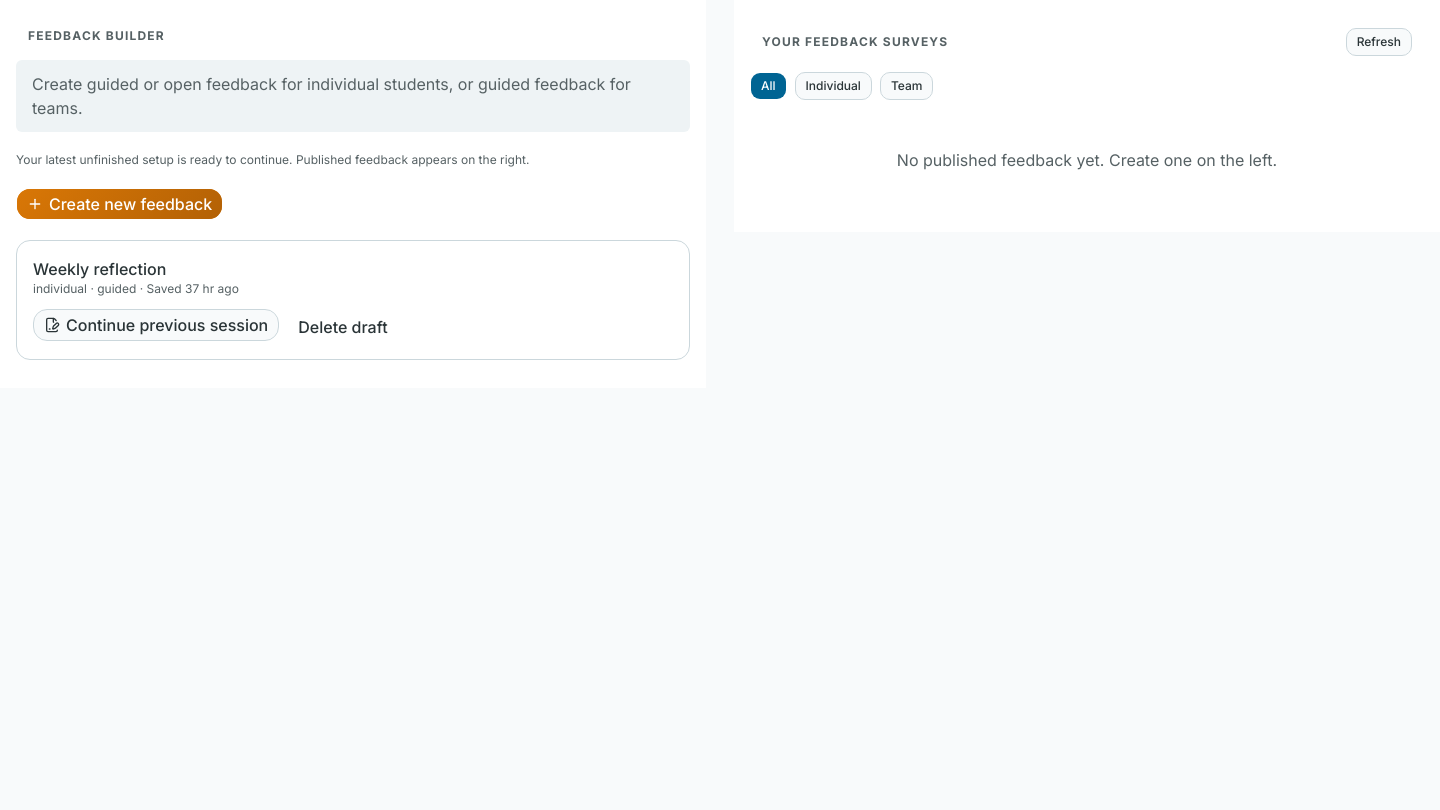
keeps a failed optimistic instruction and newer draft after save failure
Click the button "Continue previous session".
click(156, 325)  # box [33,309,279,341]
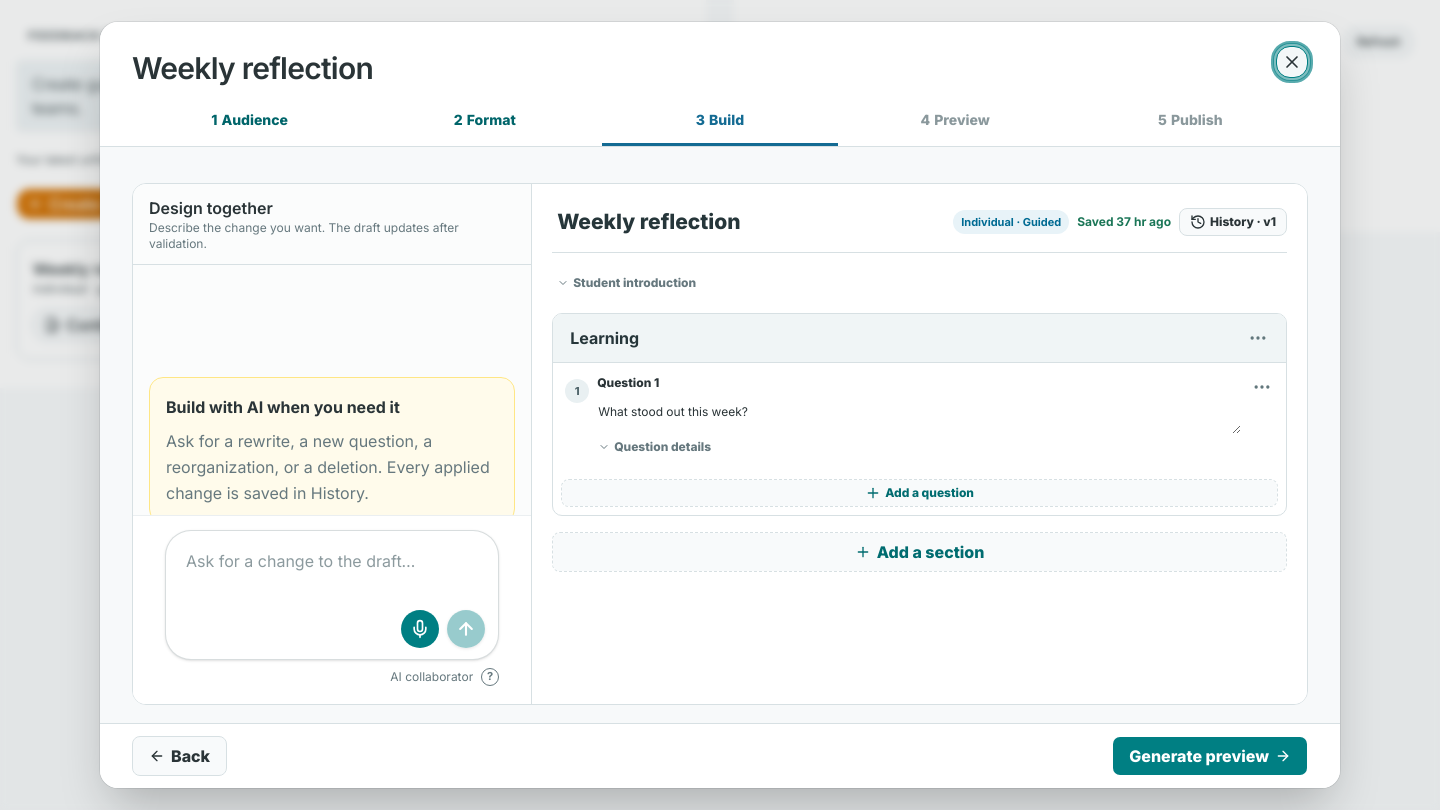
Type " revised" into the field named "Feedback title".
click(749, 222); type(" revised")  # box [552,204,945,240]
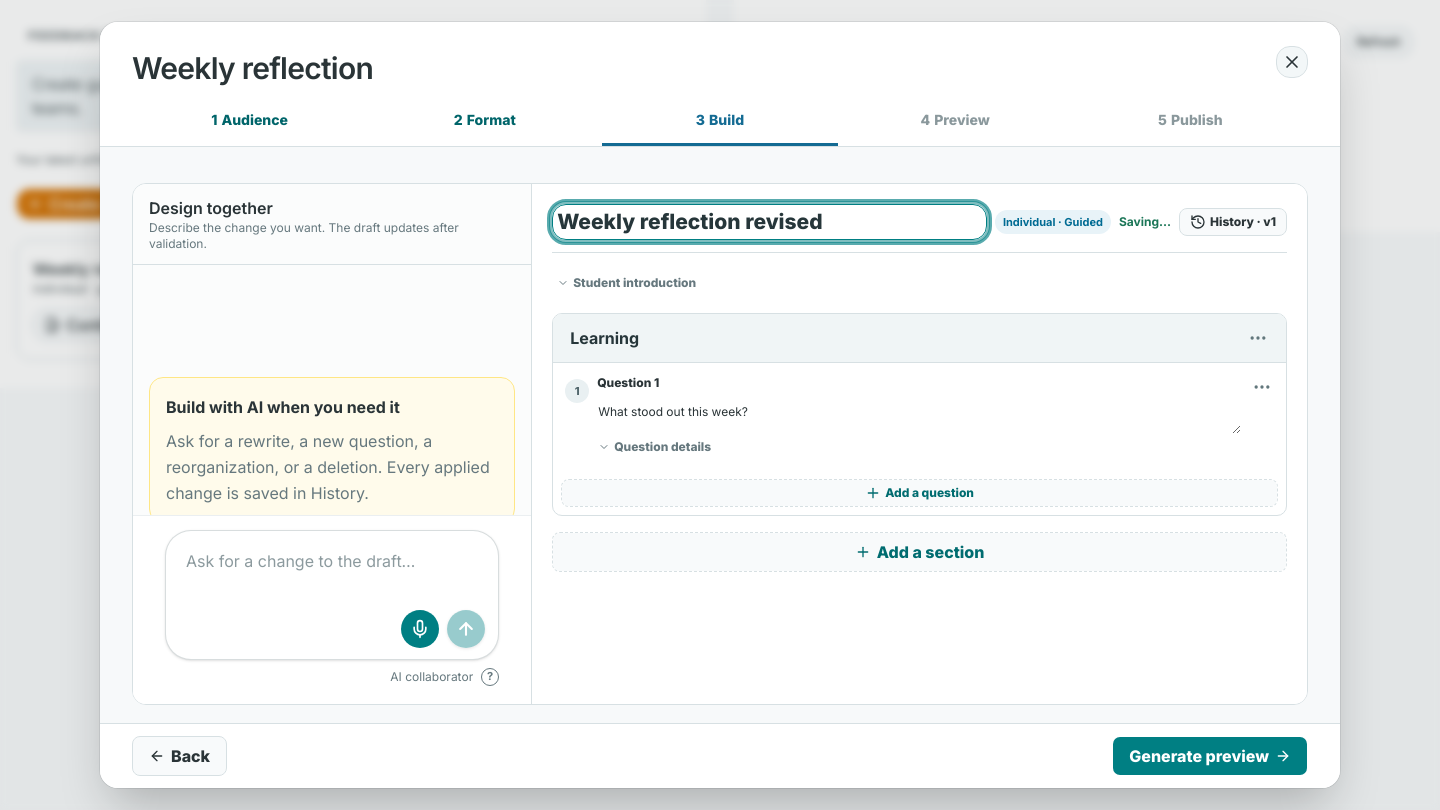
Type "Submitted instruction" into the text box named "Ask LEAI to edit this feedback draft".
click(332, 573); type("Submitted instruction")  # box [176,541,488,605]
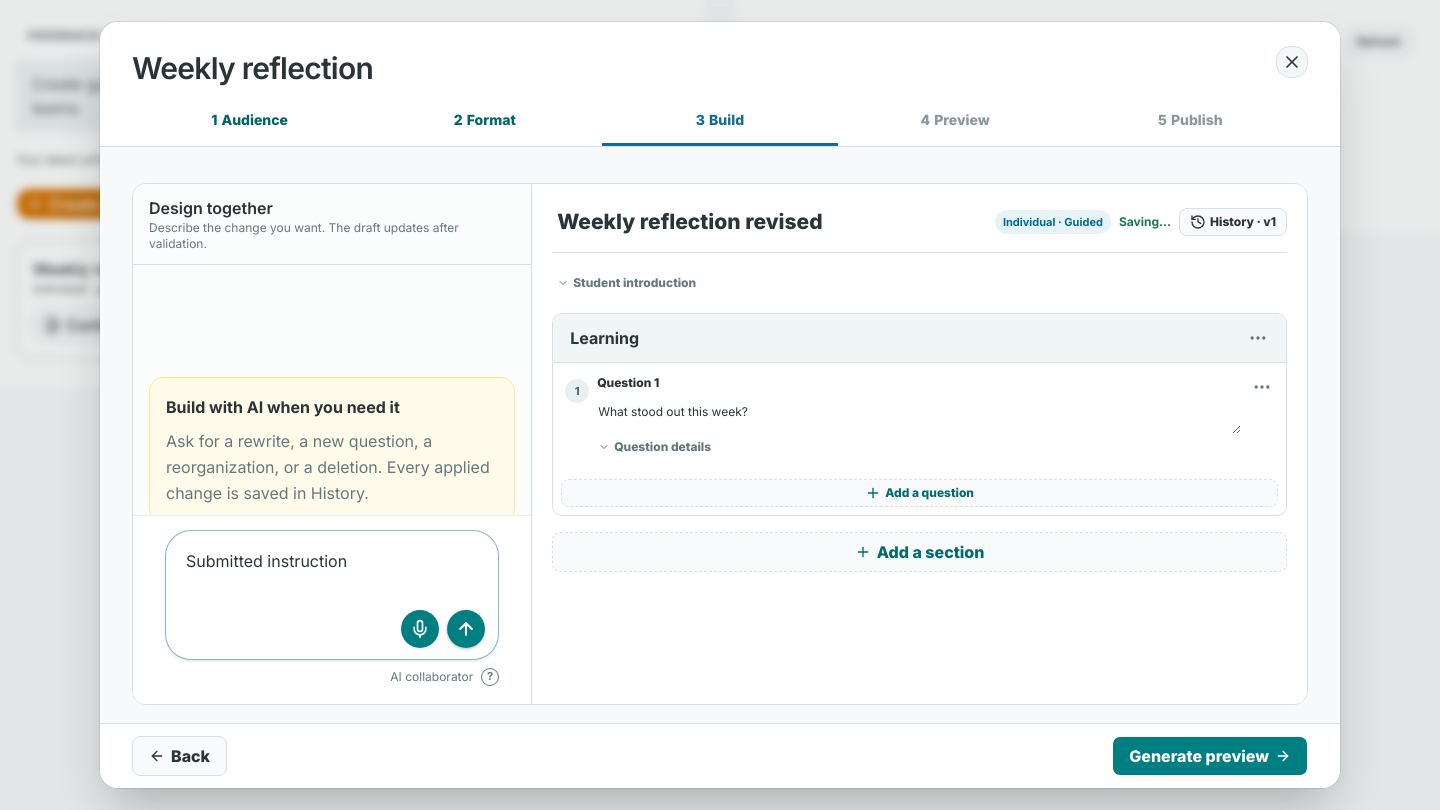
Click the button named "Send".
click(466, 629)  # box [446,609,486,649]
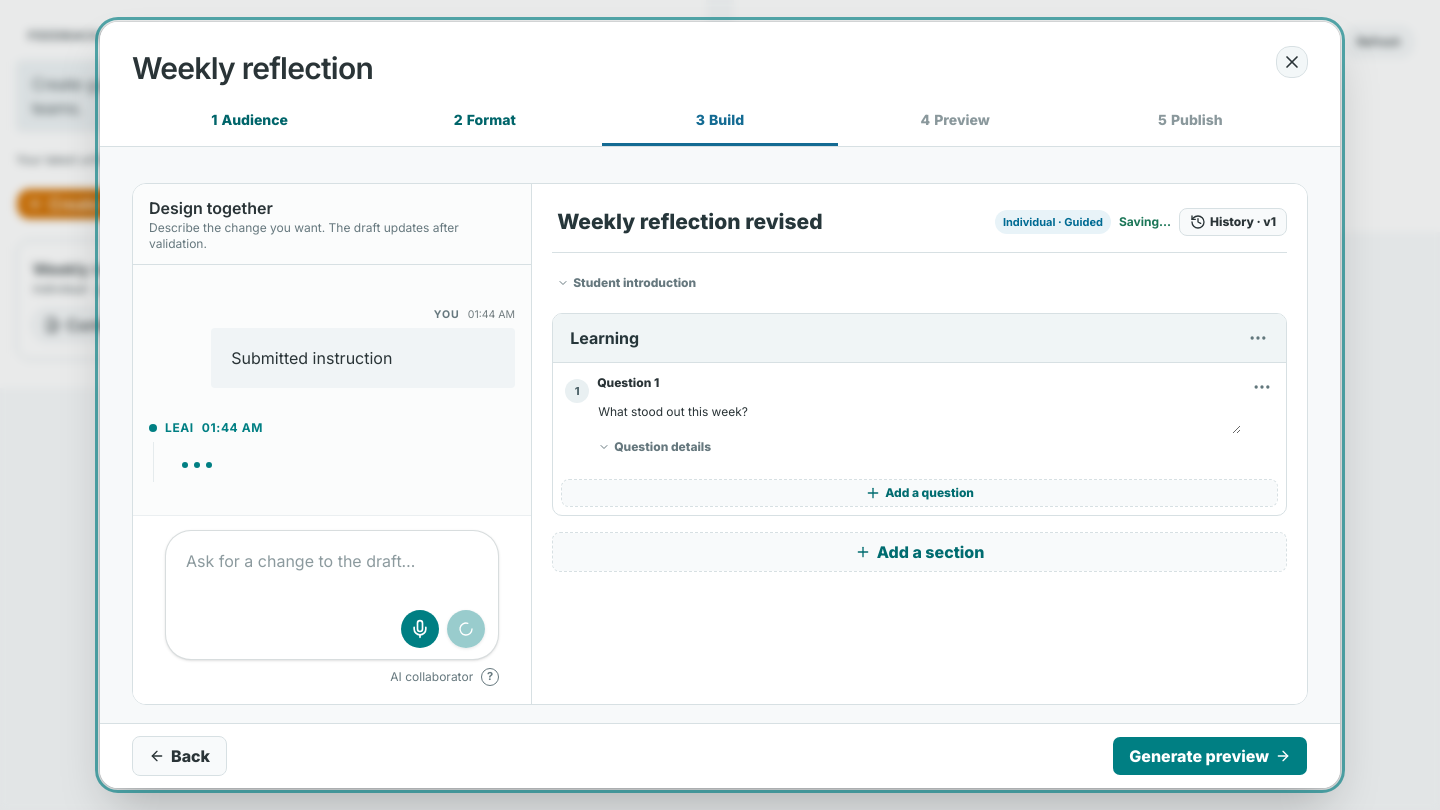
expect the text "Submitted instruction" is shown: met, box [211,328,515,388]
expect the text box named "Ask LEAI to edit this feedback draft" is empty: met
Type "New draft" into the text box named "Ask LEAI to edit this feedback draft".
click(332, 573); type("New draft")  # box [176,541,488,605]
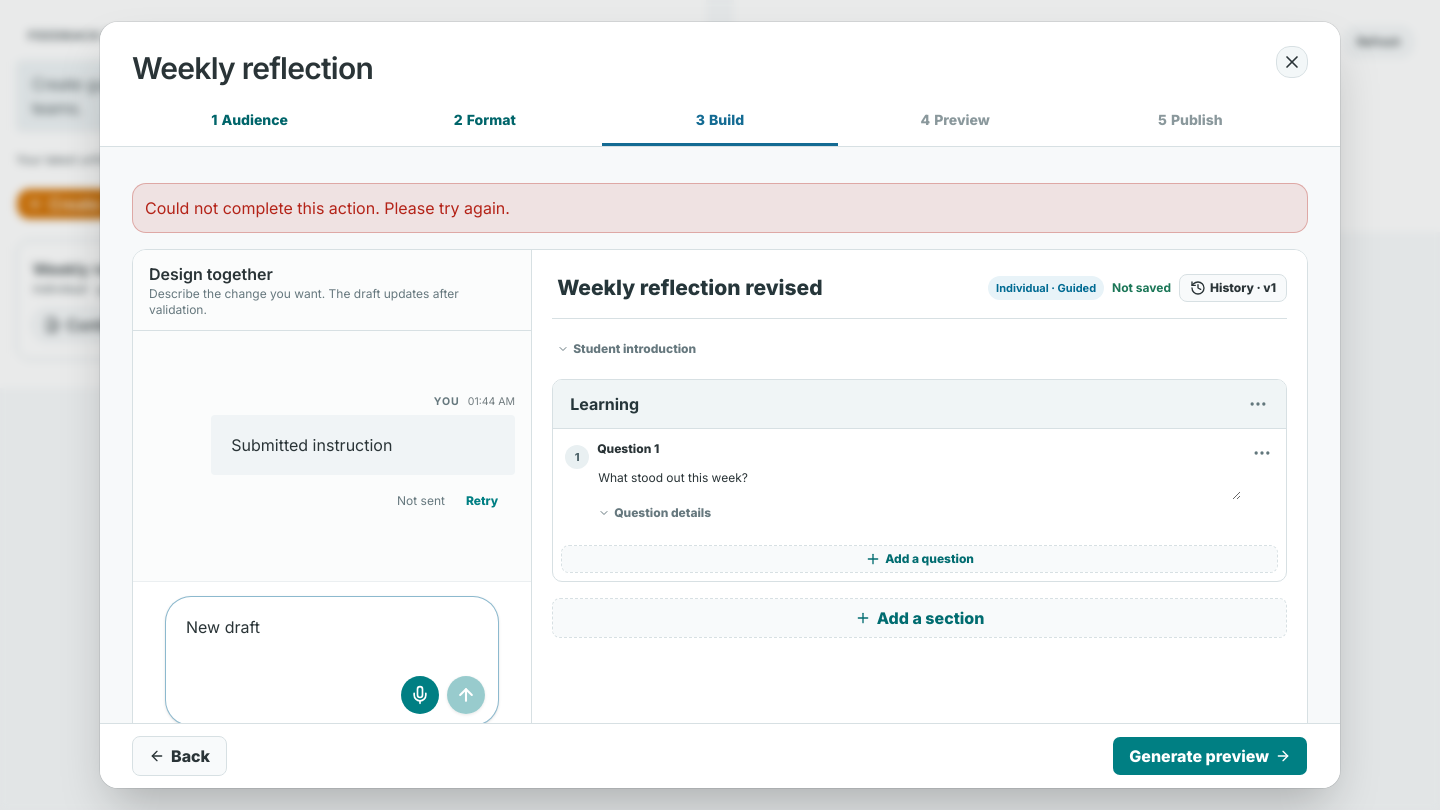
expect the text "Submitted instruction" is shown: met, box [211,415,515,475]
expect the button named "Send" is disabled: met, box [446,675,486,715]
expect the button "Retry" is shown: met, box [449,481,515,521]
